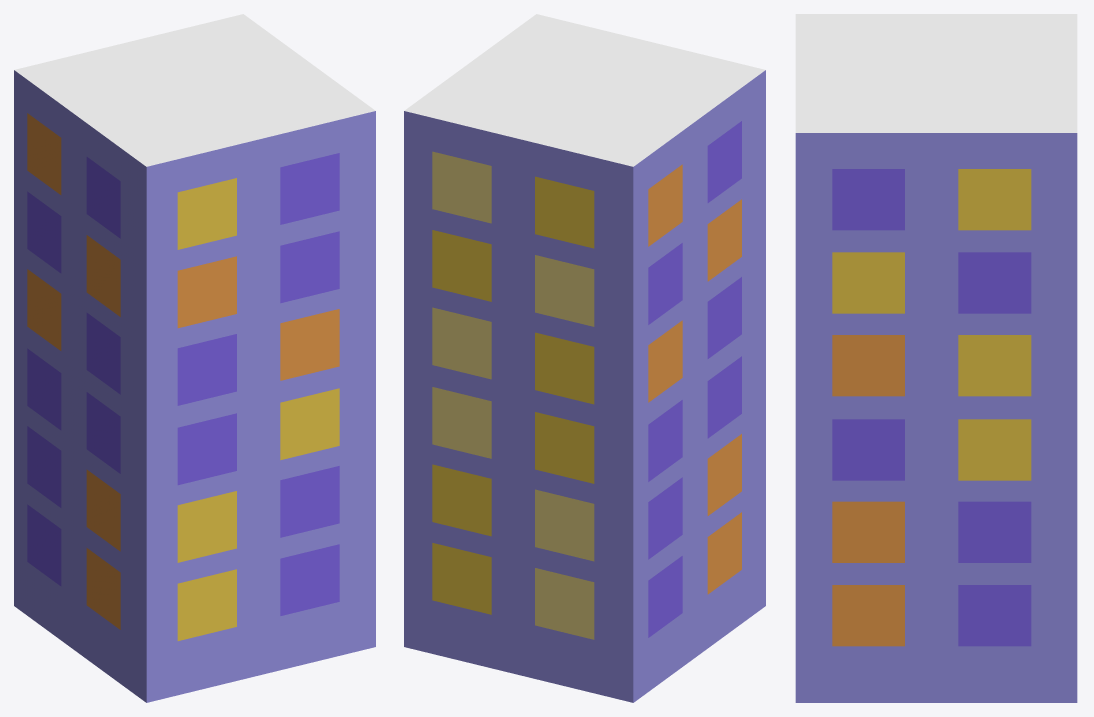
Rendered from Building_08.fbx.
The picture shows the model from 3 angles, left to right: view 1: azimuth 30°, elevation 25°; view 2: azimuth 150°, elevation 25°; view 3: azimuth 270°, elevation 25°; orthographic projection. The views are drawn at different scales.
Parts seen in each view (by area): view 1: Building_08; view 2: Building_08; view 3: Building_08.
Part boxes in pixels (x1=…): Building_08: x1=14, y1=14, x2=375, y2=702; Building_08: x1=404, y1=14, x2=765, y2=702; Building_08: x1=795, y1=14, x2=1077, y2=702.
Size of the model in its own units: 19.64 by 43.12 by 19.58.
